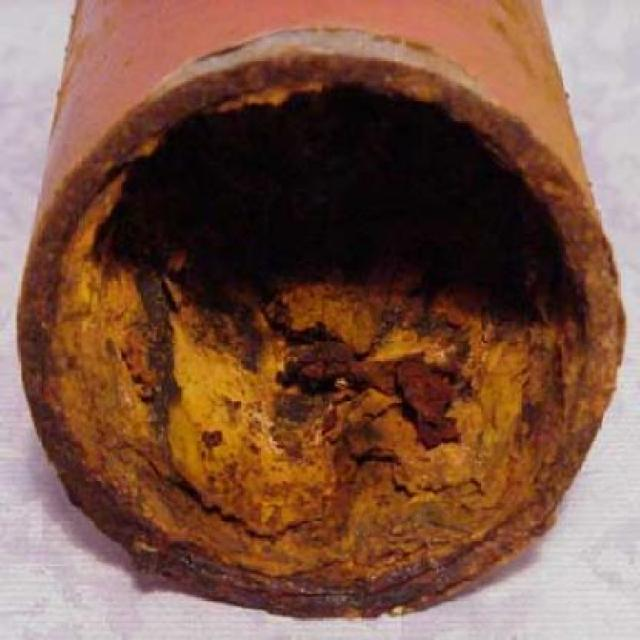corrosion: (23, 1, 629, 614)
